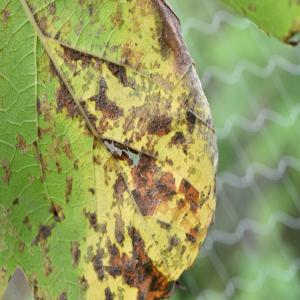Folha: (0, 0, 218, 299)
Fungo: (104, 225, 174, 299), (88, 76, 124, 120), (55, 82, 85, 120), (146, 112, 173, 136), (30, 220, 54, 246), (91, 252, 104, 281), (48, 200, 65, 222), (114, 212, 125, 244), (0, 156, 11, 184), (70, 240, 80, 268), (166, 232, 179, 252), (170, 130, 186, 146), (76, 274, 89, 292), (64, 174, 72, 202), (1, 6, 11, 22), (56, 289, 67, 299)
